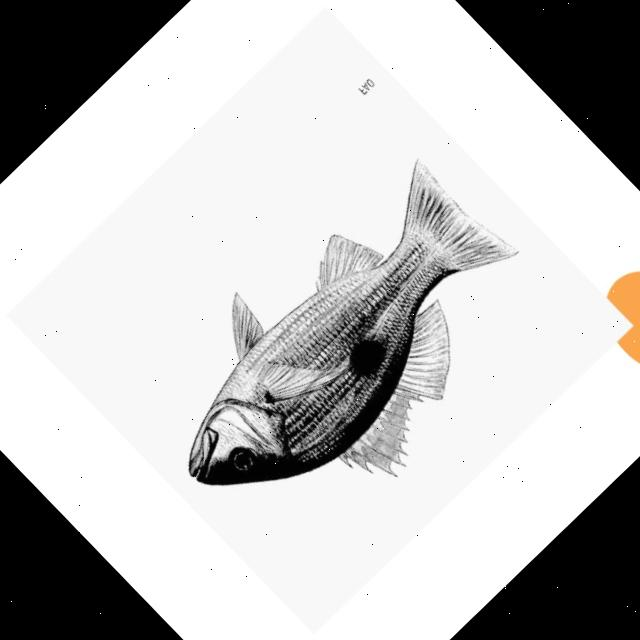ikan: (120, 131, 574, 581)
